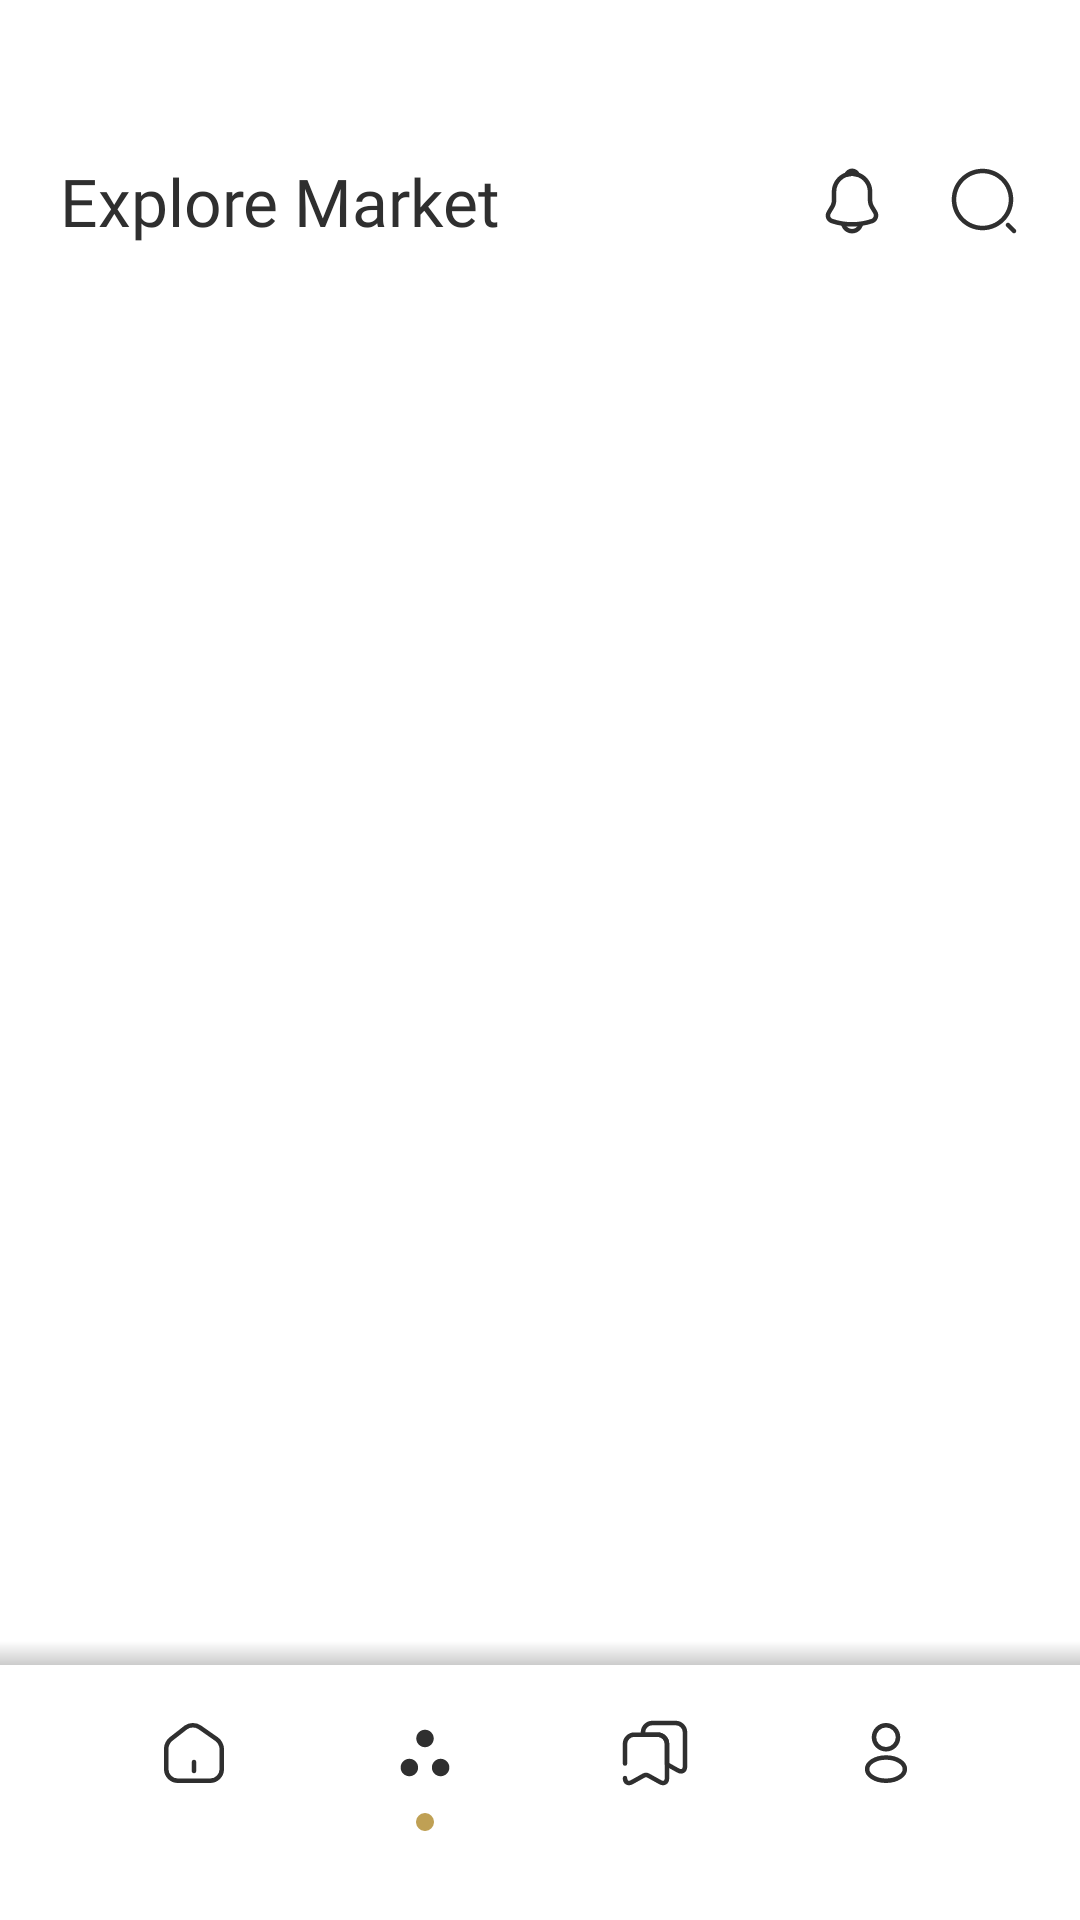

Point at icon controls on the screen. Image size 1080×1920, points as (x=x, y=y).
home: (x=194, y=1753)
notification: (x=852, y=201)
profile: (x=886, y=1753)
search: (x=984, y=201)
